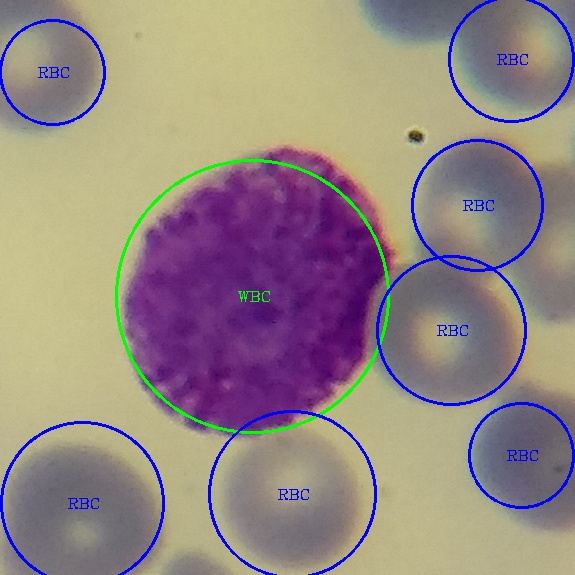RBC: (370, 244, 522, 410), (0, 439, 166, 574), (221, 426, 366, 573), (419, 130, 548, 286), (466, 381, 573, 536), (448, 0, 573, 115), (0, 0, 102, 138), (496, 152, 573, 328)
WBC: (118, 130, 393, 444)
